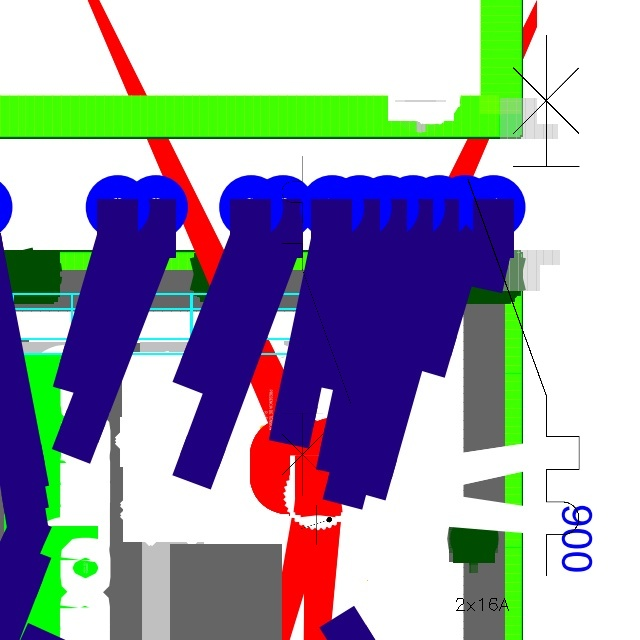interruptor_termomagnetico: (454, 21, 593, 590), (273, 147, 360, 504)
